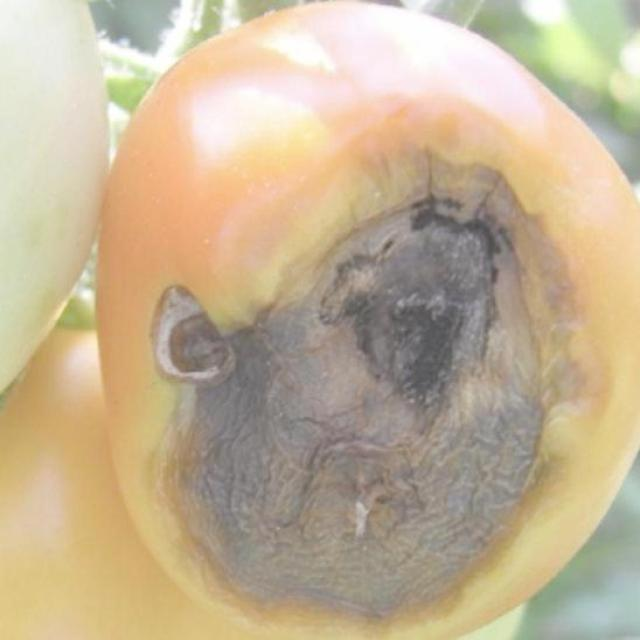Blossom End Rot Fruit: (95, 120, 390, 423)
